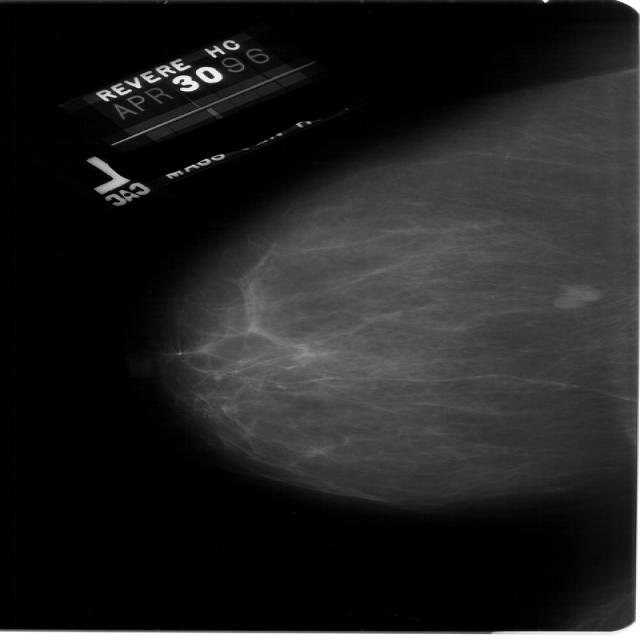tumour: (551, 283, 600, 308)
